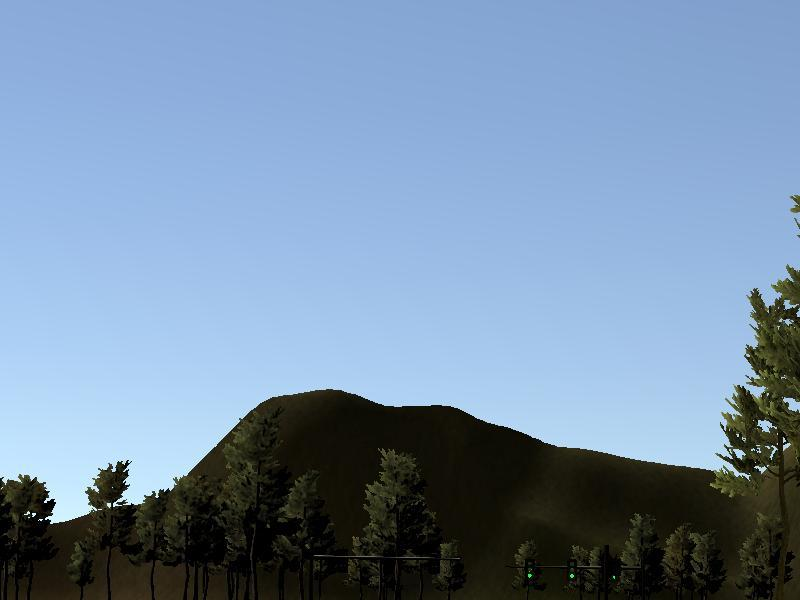Green: (523, 555, 535, 583), (567, 555, 577, 583)
